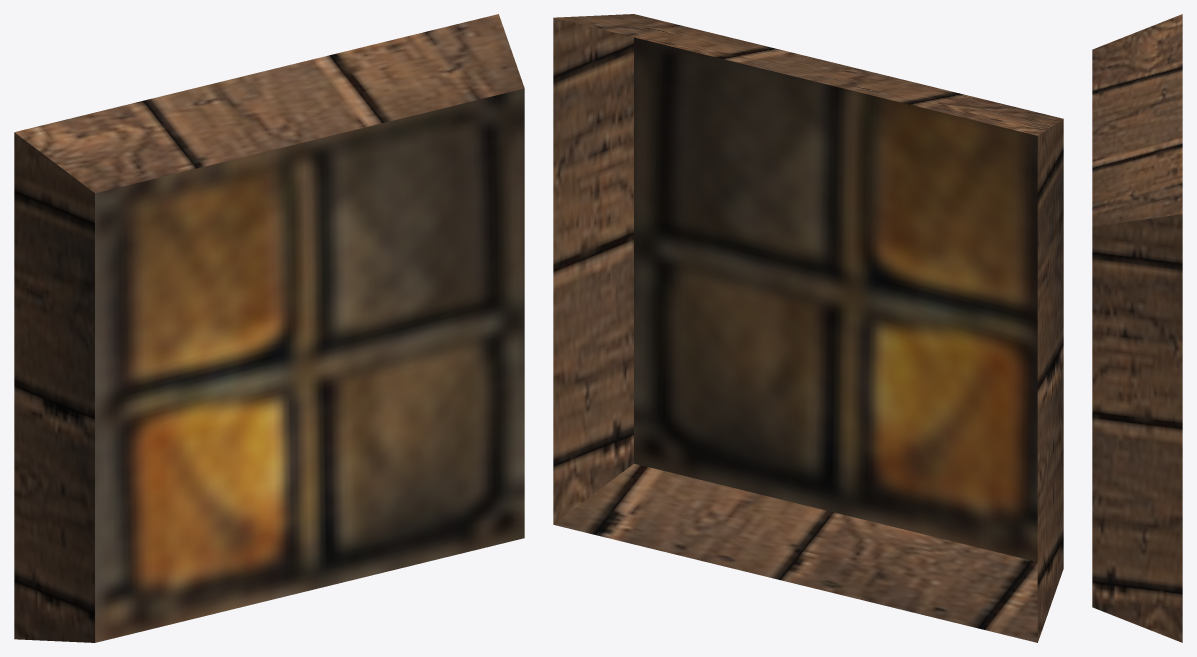
Rendered from window_4.fbx.
3 renders of one model, left to right at view 1: azimuth 30°, elevation 25°; view 2: azimuth 150°, elevation 25°; view 3: azimuth 270°, elevation 25°, orthographic. The views are drawn at different scales.
Parts seen in each view (by area): view 1: window_4; view 2: window_4; view 3: window_4.
Boxes of the visible parts, x1,y1,x2,y2 form: window_4: (14,14,524,642); window_4: (553,14,1063,642); window_4: (1092,14,1182,642).
Bounding box in the file's own units: 1.13 × 1.13 × 0.2152.
